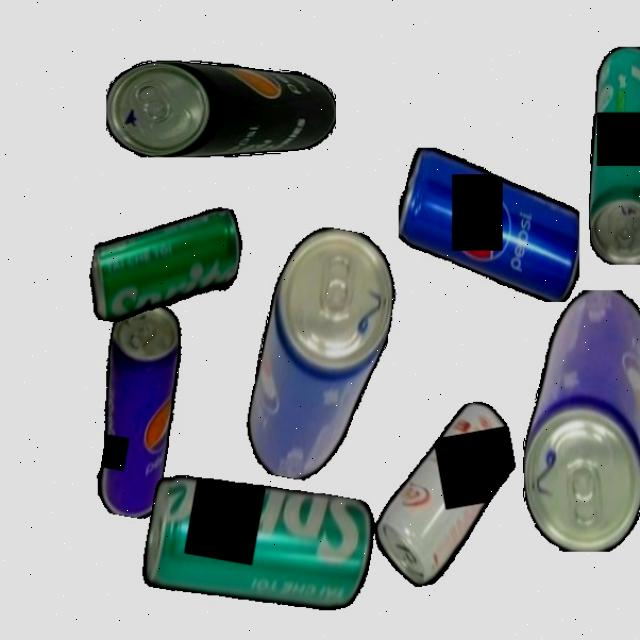debris: (239, 220, 405, 490), (139, 466, 380, 623), (356, 398, 533, 592), (522, 289, 640, 552), (398, 147, 580, 302), (83, 188, 248, 341), (81, 295, 192, 521), (106, 59, 336, 158), (588, 46, 640, 264)
